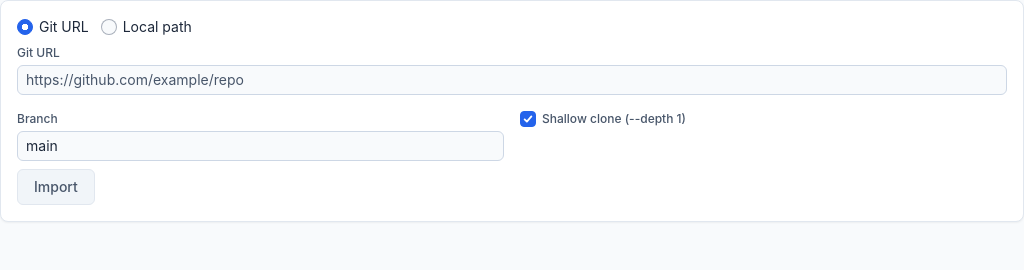
Test: SourceRepoField — In-place sub-mode locked to Storage root › disables In-place card when storage mode is global
Click the radio button labelled "Local path".
click(109, 27)  # box 101,19 -> 117,35
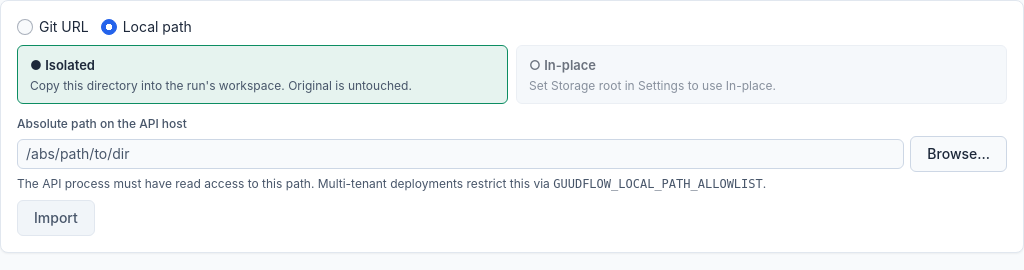
expect the button with test id "source-local-submode-in-place" is disabled: met, box 516,45 -> 1007,104
expect the button with test id "source-local-submode-in-place" shows "Set Storage root in Settings": met, box 516,45 -> 1007,104
